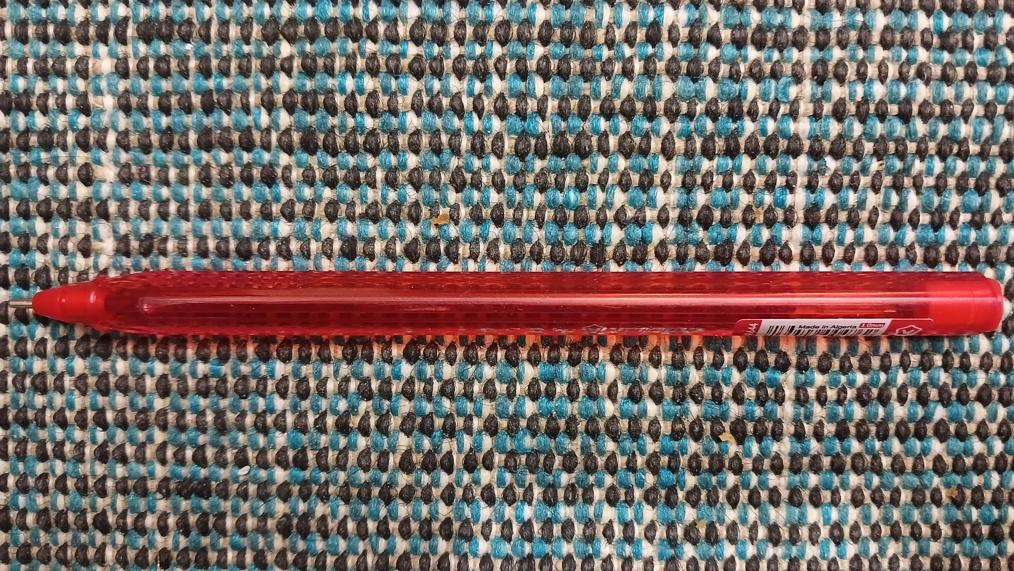pen: (4, 272, 1009, 335)
